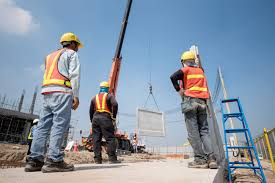hard hat: (60, 33, 84, 47), (180, 51, 197, 61)
safe person: (170, 50, 224, 169), (39, 31, 86, 163), (89, 80, 122, 161)
